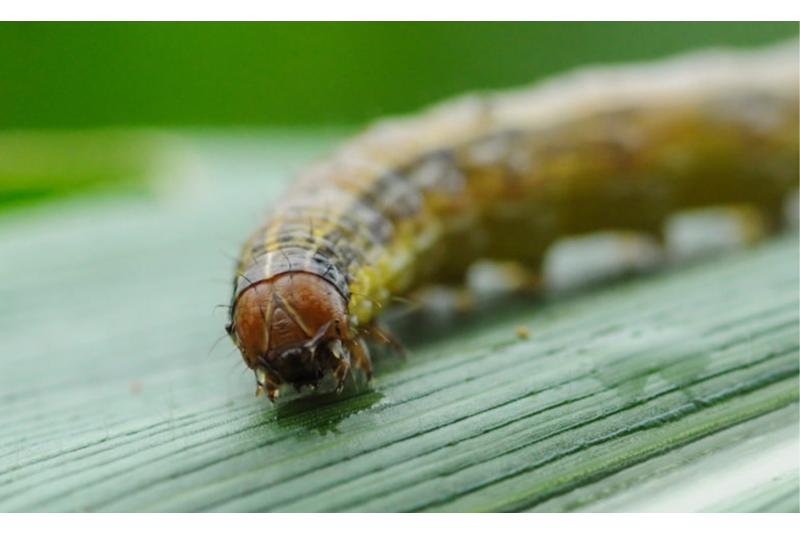fall-armyworm: (229, 39, 800, 404)
